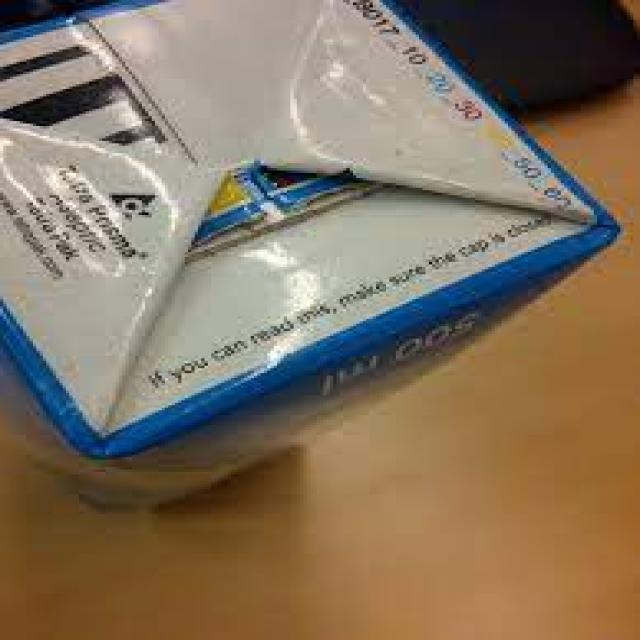cardboard: (0, 0, 617, 457)
